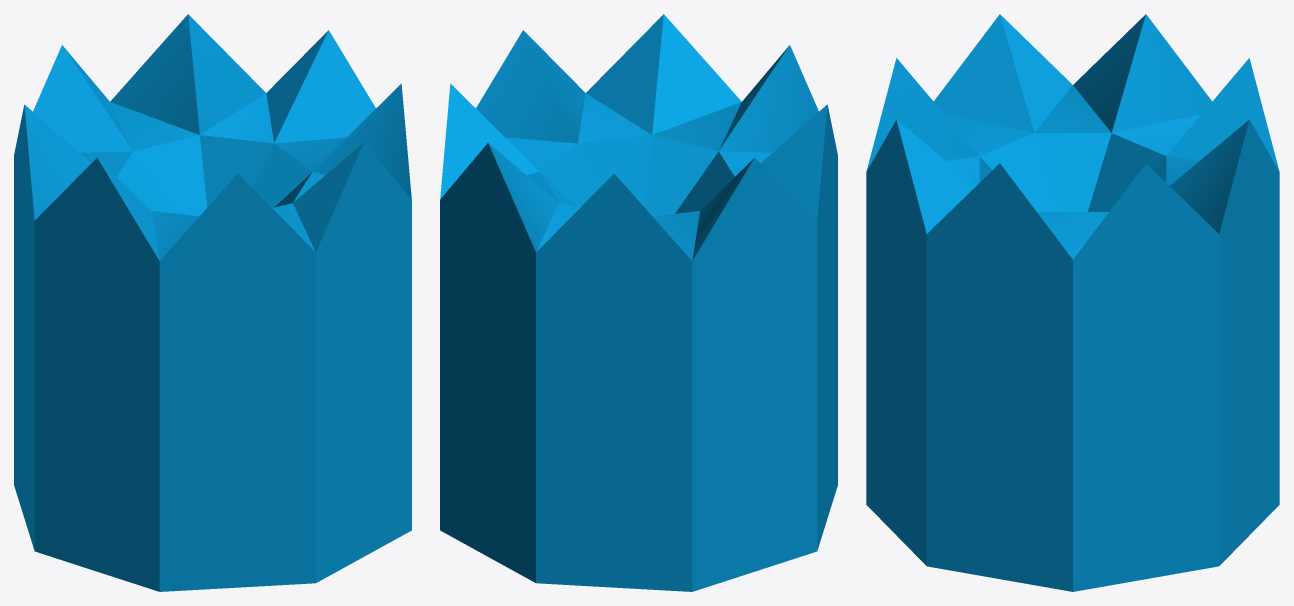
Rendered from crystal_pillar_bottom.fbx.
The picture shows the model from 3 angles, left to right: view 1: azimuth 30°, elevation 25°; view 2: azimuth 150°, elevation 25°; view 3: azimuth 270°, elevation 25°; orthographic projection.
Parts seen in each view (by area): view 1: crystal.pillar.bottom; view 2: crystal.pillar.bottom; view 3: crystal.pillar.bottom.
Boxes of the visible parts, x1=… form: crystal.pillar.bottom: x1=14, y1=14, x2=411, y2=591; crystal.pillar.bottom: x1=440, y1=14, x2=837, y2=591; crystal.pillar.bottom: x1=866, y1=14, x2=1279, y2=591.
Size of the model in its own units: 90.08 by 100 by 90.08.
